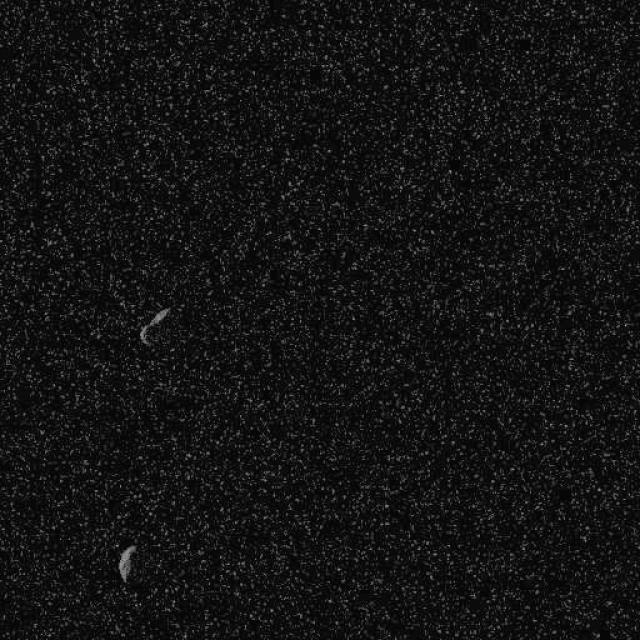D2: (138, 305, 172, 346), (116, 542, 136, 582)
